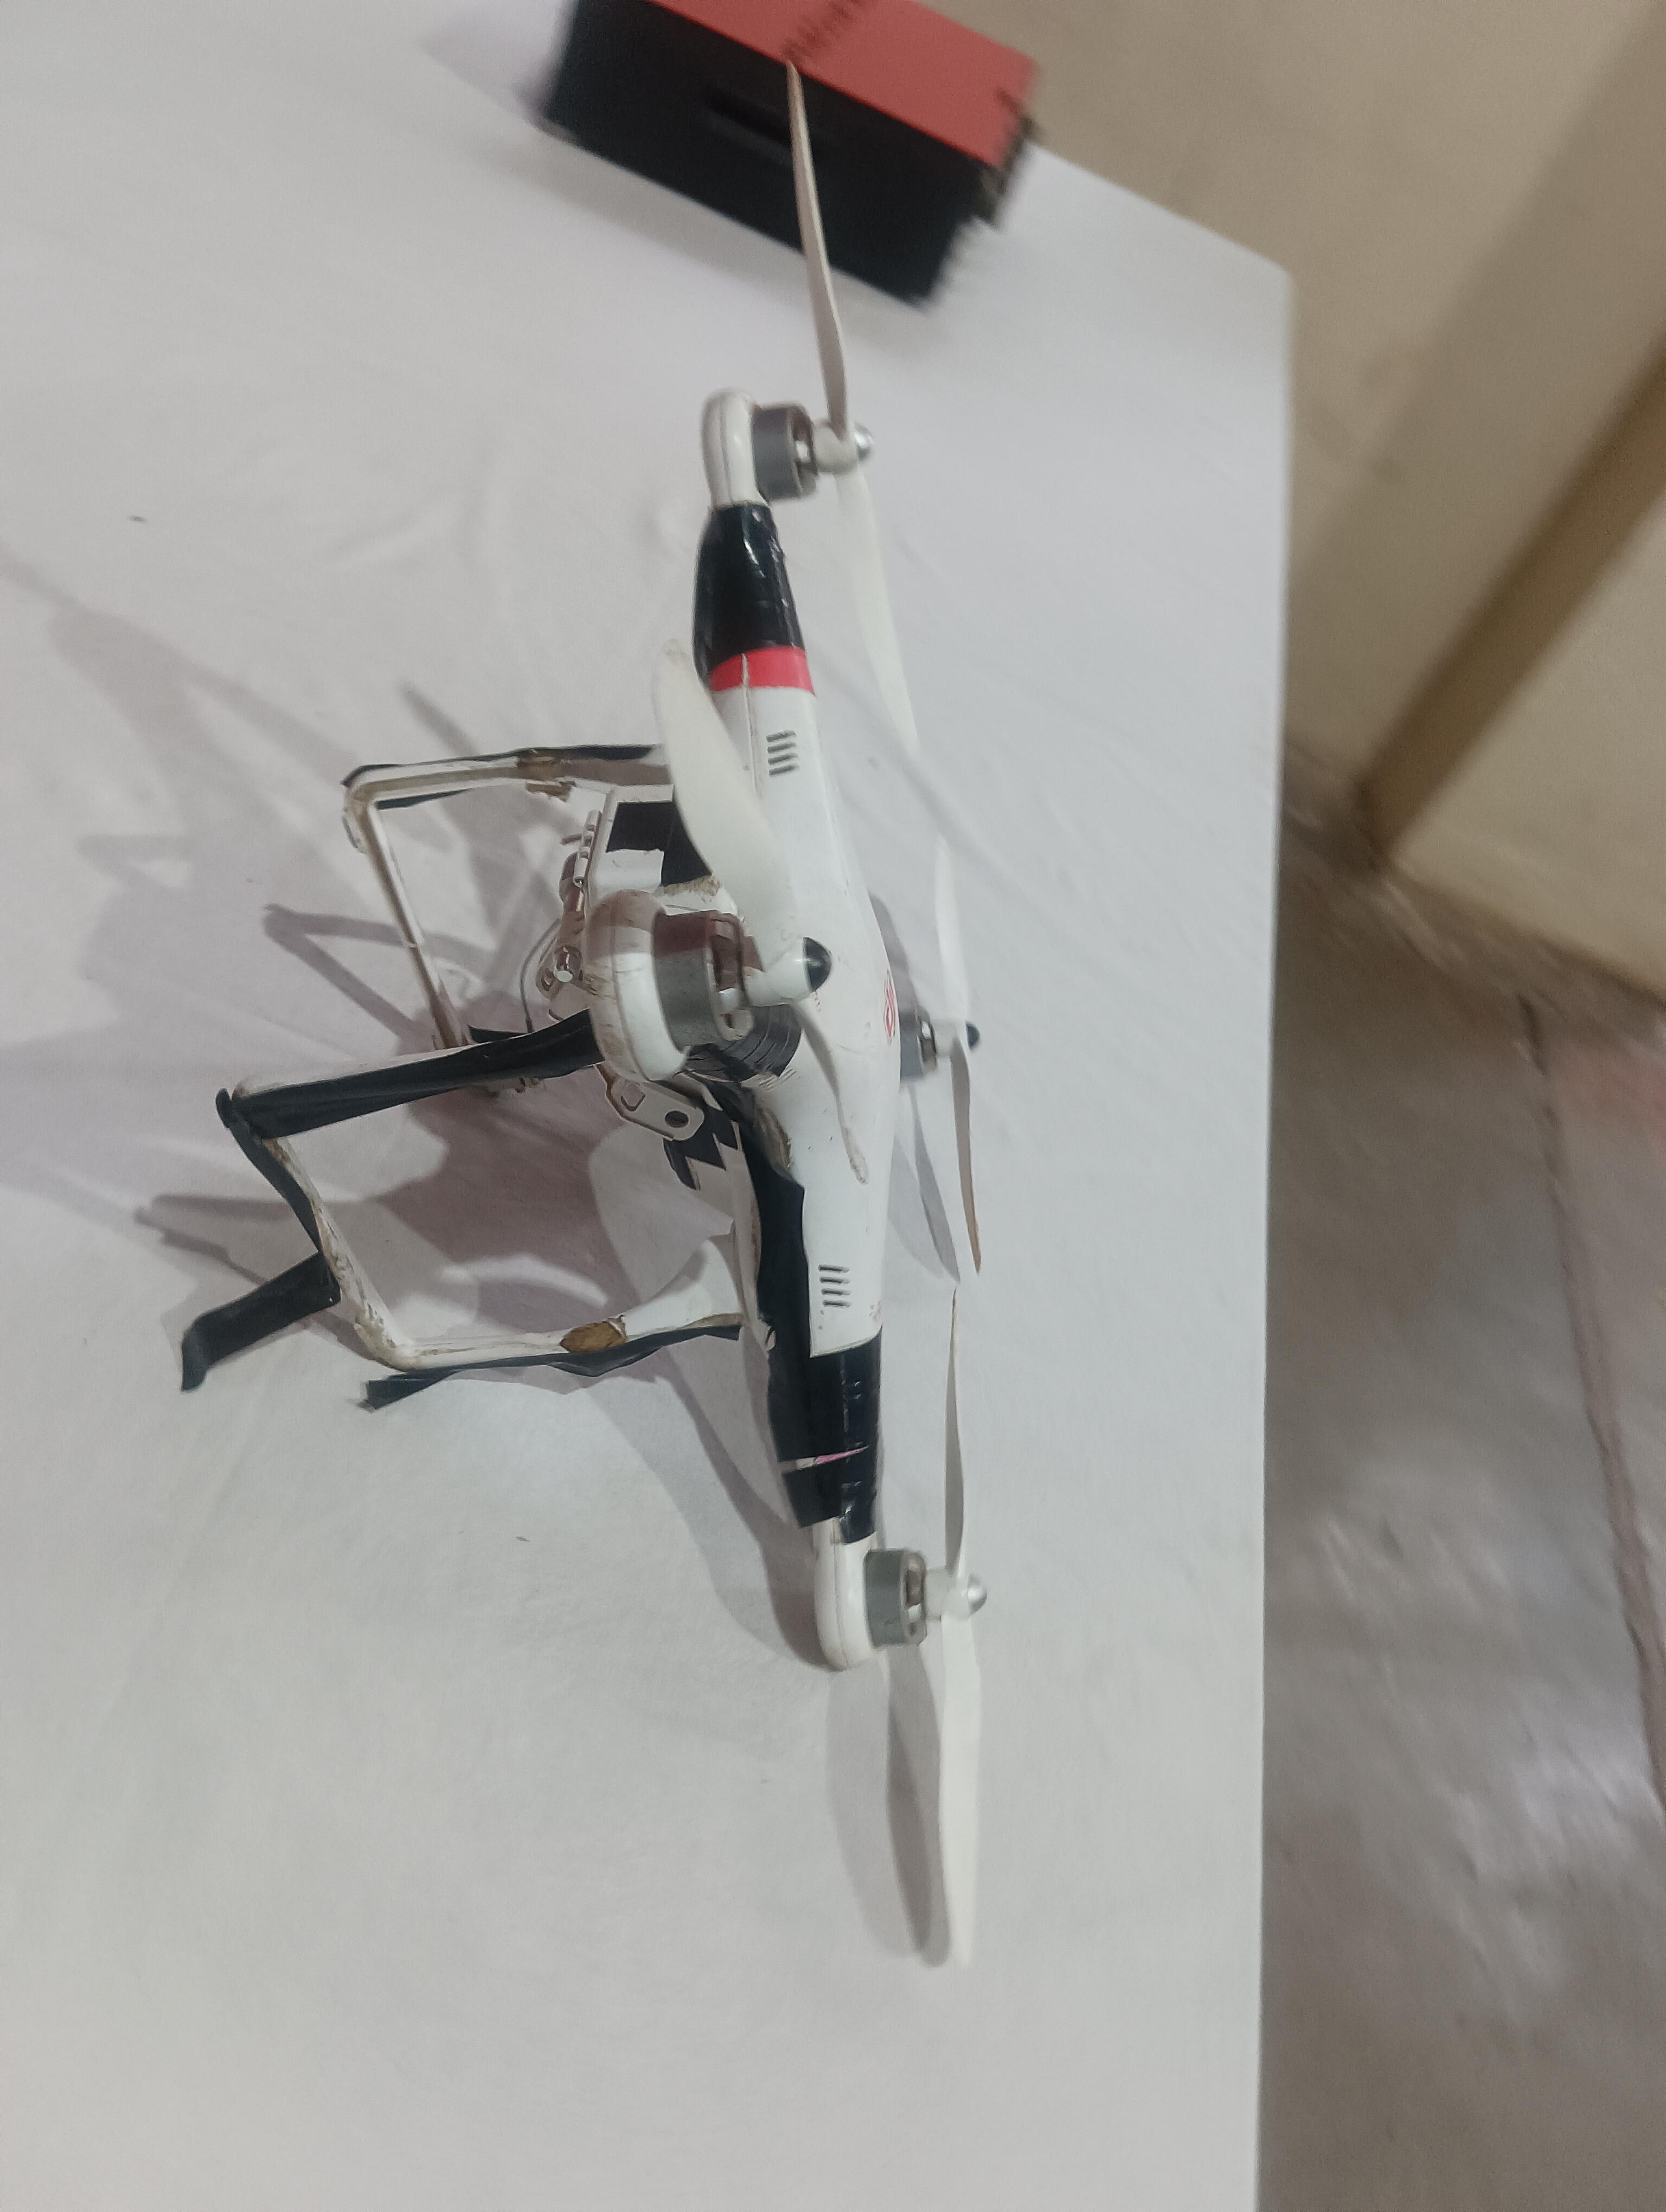drone: (187, 339, 1157, 1705)
